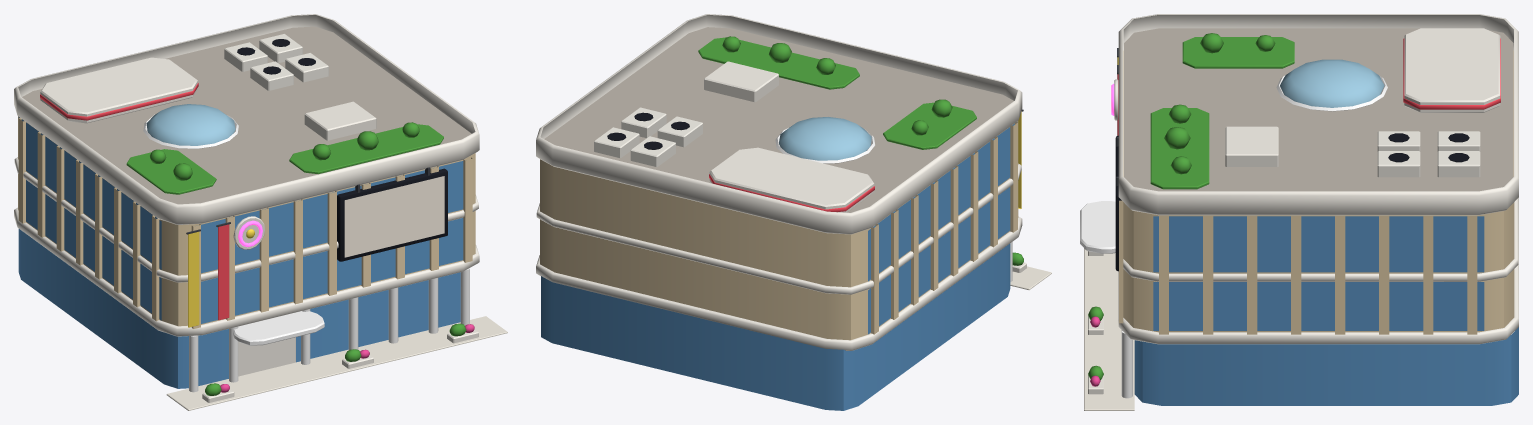
File: bld_mall.glb
3 views of the same model, side by side, from view 1: azimuth 30°, elevation 25°; view 2: azimuth 150°, elevation 25°; view 3: azimuth 270°, elevation 25° (orthographic). The views are drawn at different scales.
Parts seen in each view (by area): view 1: body, screen; view 2: body; view 3: body.
Part boxes in pixels (left/top/right/bottom): body: left=14, top=14, right=507, bottom=410; screen: left=344, top=176, right=444, bottom=257; body: left=536, top=14, right=1051, bottom=410; body: left=1080, top=14, right=1518, bottom=410.
Size of the model in its own units: 32 by 18.75 by 32.9.
